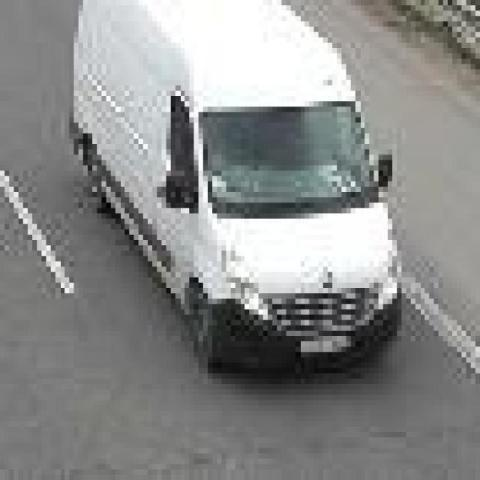van: (74, 0, 402, 368)
